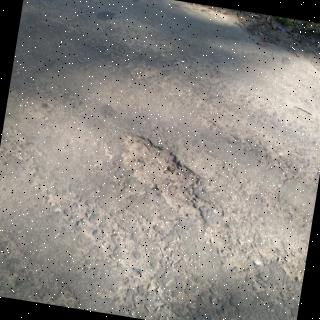pothole: (120, 133, 213, 220)
